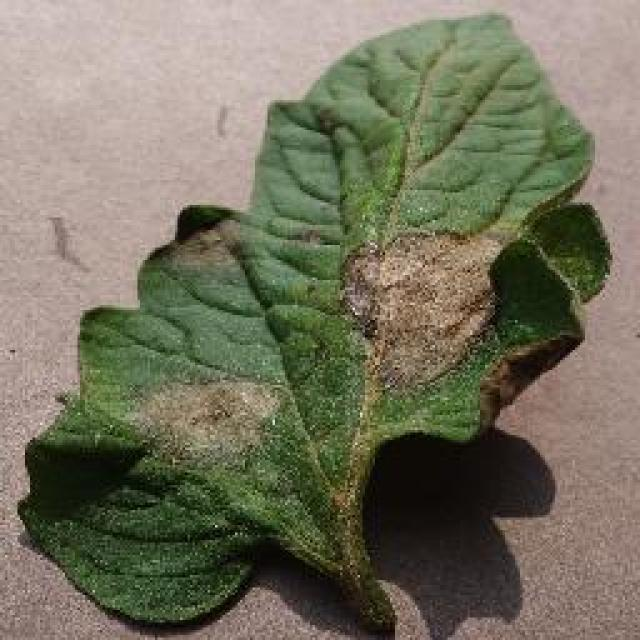Tomato Late Blight: (142, 150, 425, 480)
